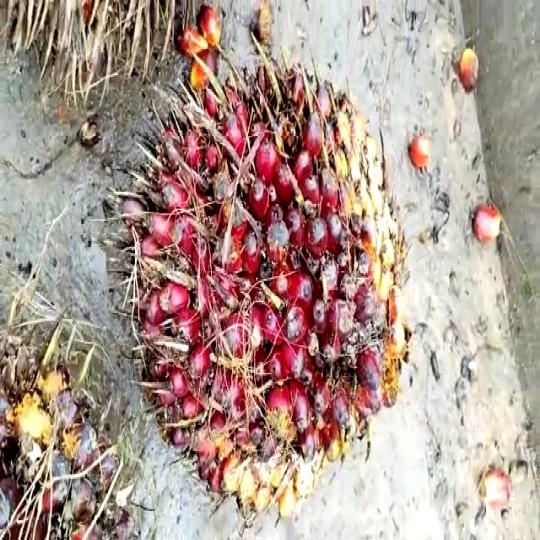kurang masak: (118, 50, 416, 514)
